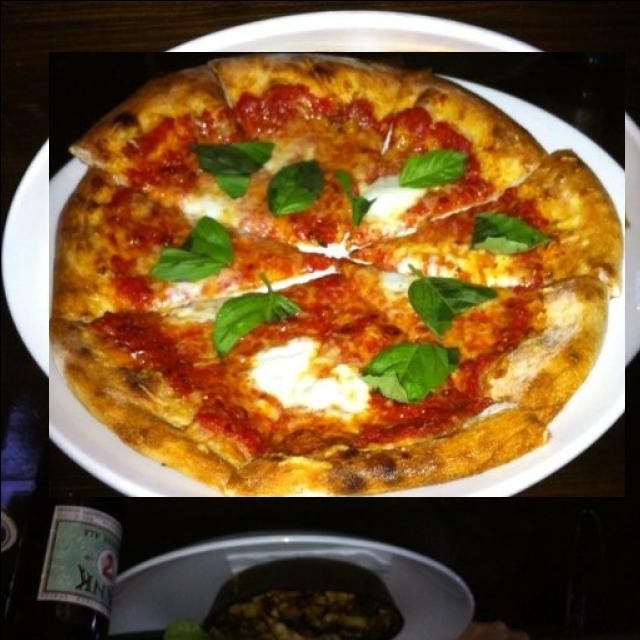basil: (372, 188, 459, 276), (175, 209, 266, 285), (210, 145, 315, 207), (441, 264, 522, 333), (398, 350, 484, 407), (116, 293, 202, 337), (346, 330, 405, 391), (202, 360, 276, 400), (298, 322, 338, 381)
pizza: (48, 51, 624, 496)
